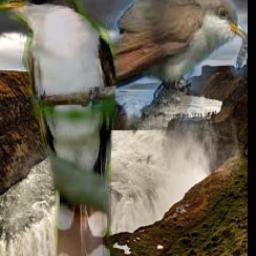Cuckoo: (0, 0, 120, 256), (50, 0, 248, 130)
